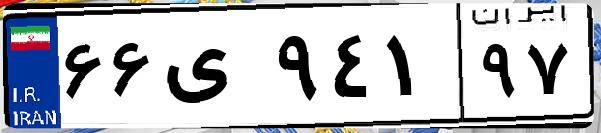1: (385, 28, 445, 110)
4: (330, 28, 385, 110)
6: (57, 26, 110, 100), (110, 28, 158, 98)
7: (525, 38, 570, 115)
9: (270, 28, 330, 110), (475, 38, 525, 113)
ی: (158, 20, 270, 120)
